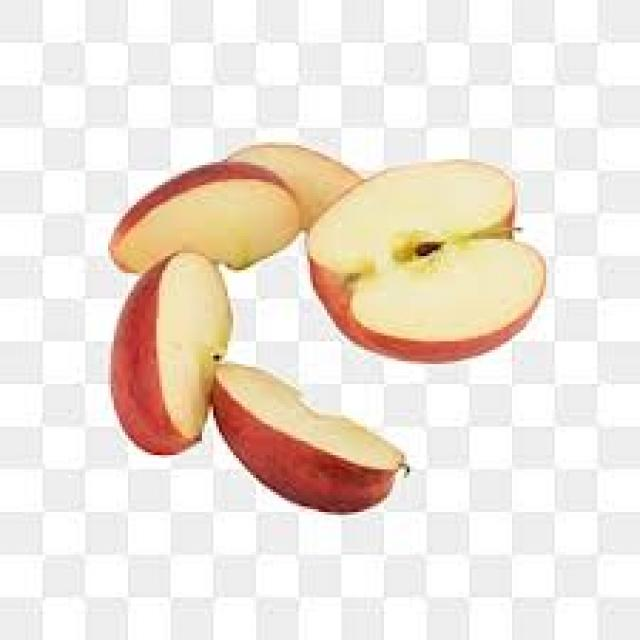Apple: (312, 152, 547, 366), (209, 366, 411, 516), (90, 159, 299, 270), (115, 256, 218, 451)
